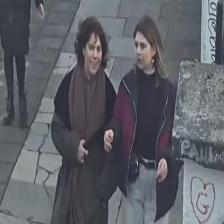person: (103, 14, 178, 222), (50, 15, 120, 221)
